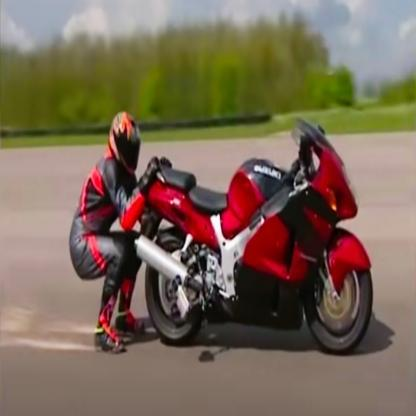helmet: (107, 111, 141, 177)
